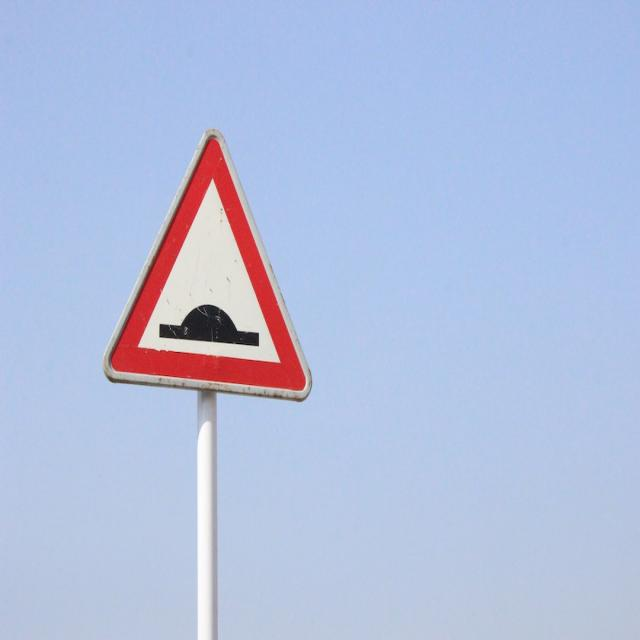hump: (105, 125, 312, 414)
